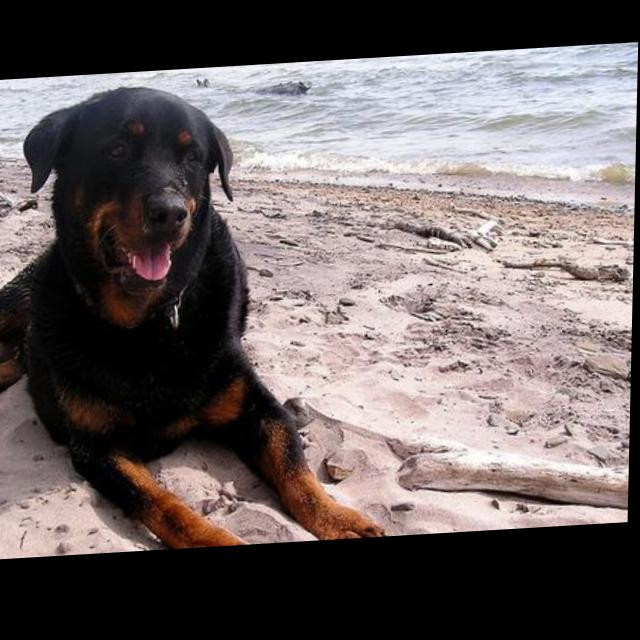rottweiler: (1, 74, 401, 561)
